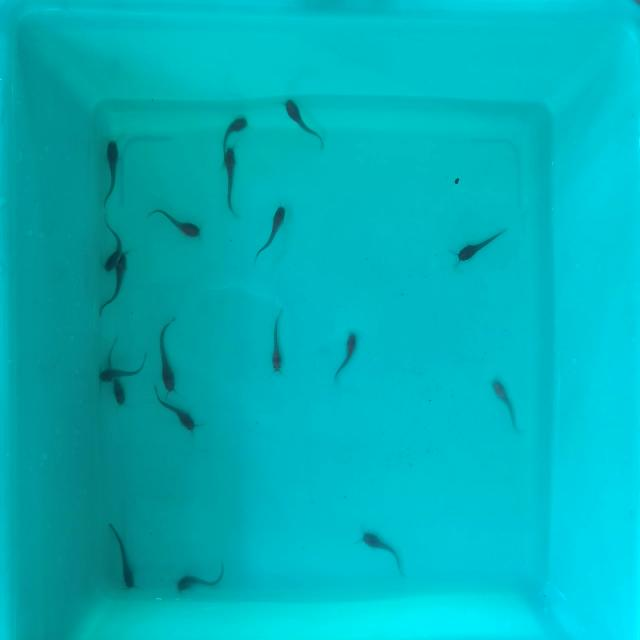lele: (279, 96, 327, 152), (146, 391, 198, 439), (361, 526, 411, 574), (456, 226, 512, 268), (253, 207, 291, 265), (147, 204, 200, 242), (92, 266, 128, 321), (104, 522, 134, 588), (175, 558, 228, 592), (488, 379, 520, 433), (106, 335, 128, 411), (96, 354, 150, 384), (330, 329, 360, 381), (99, 216, 122, 274), (159, 314, 176, 392), (102, 138, 120, 208), (214, 114, 248, 150), (222, 146, 236, 220), (271, 310, 285, 374)
